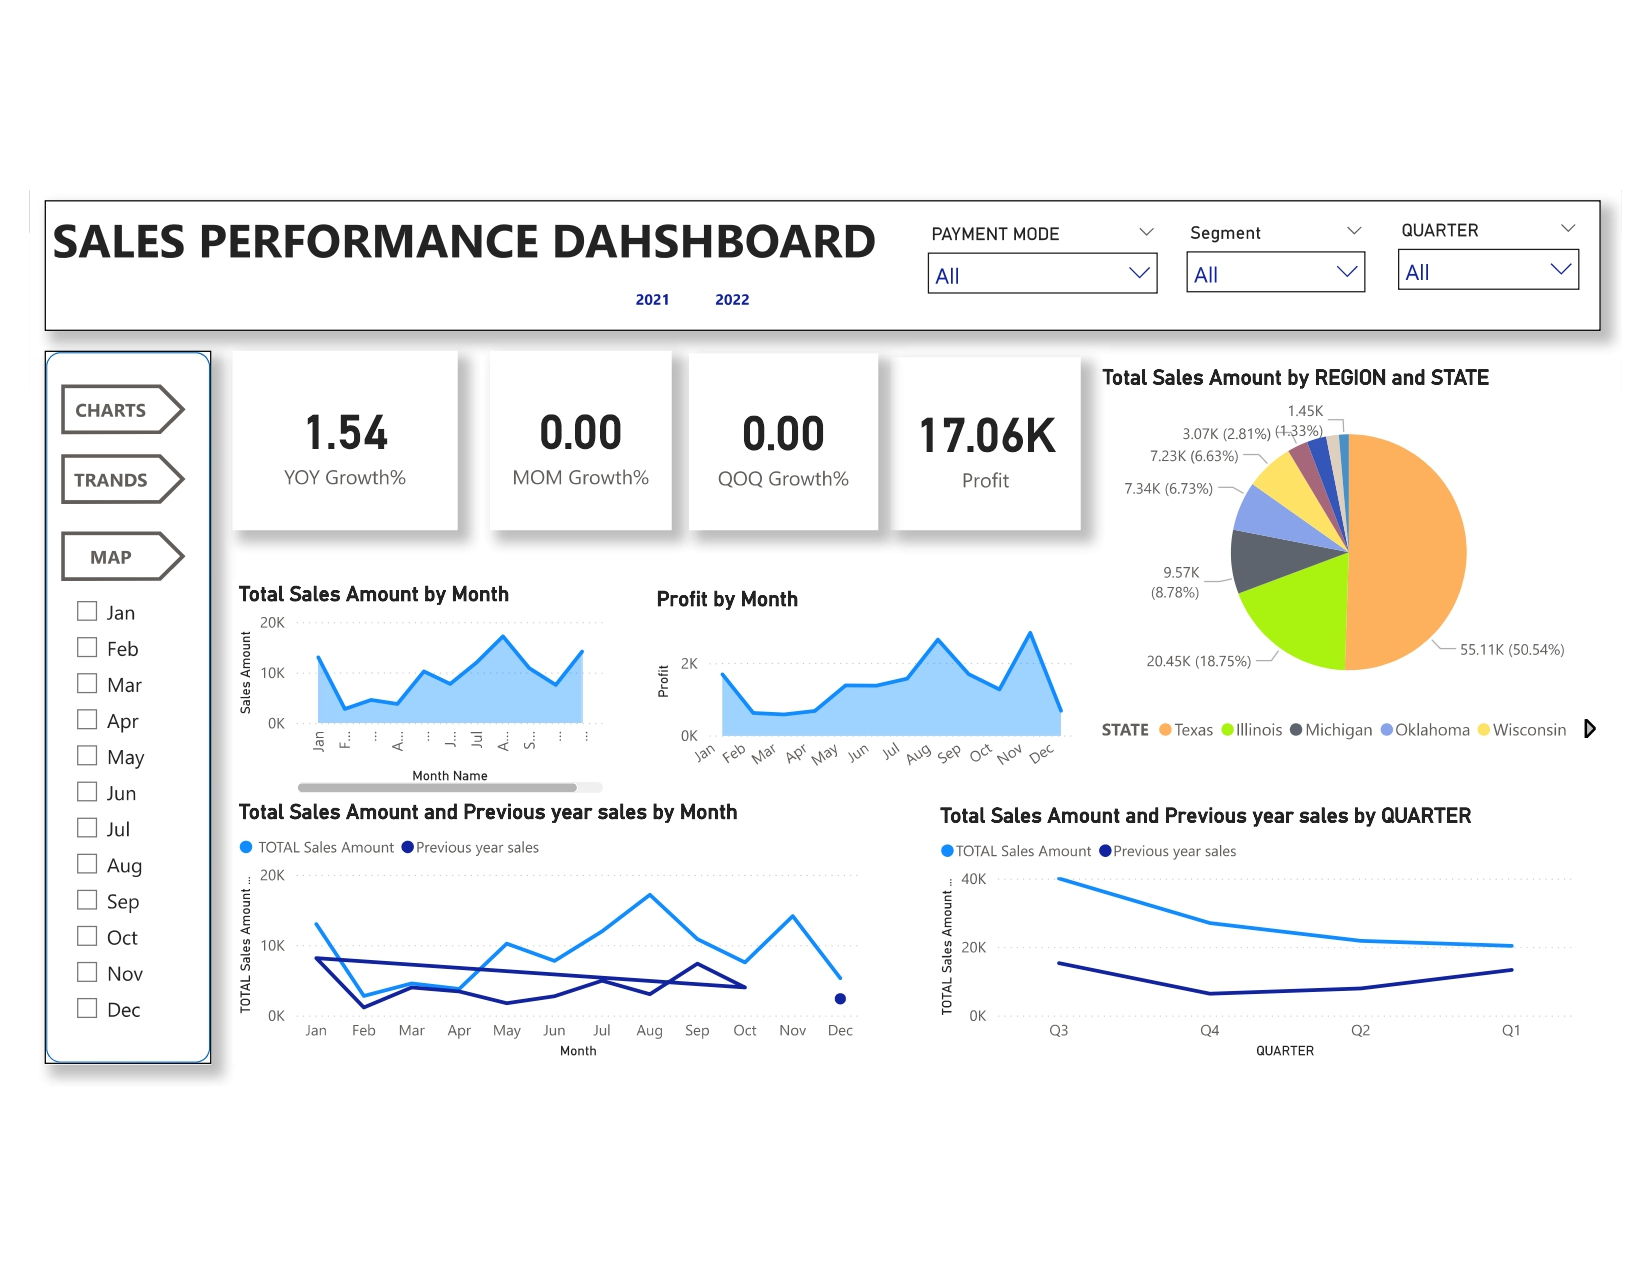

Layout of this report page (visuals, bound fields, positions):
{"tool":"powerbi","page":{"name":"TRANDS ","canvas":[1280,720],"ordinal":1},"visuals":[{"type":"textbox","box":[11.8,8.4,1251.4,104.1],"z":0},{"type":"shape","box":[11.8,129.3,134.4,572.8],"z":1000},{"type":"slicer","fields":{"Values":["InputData.Month Name"]},"box":[25.2,319.2,107.5,371.2],"z":2000},{"type":"slicer","fields":{"Values":["InputData.Segment"]},"box":[920.5,20.7,163.8,67.8],"z":3000},{"type":"slicer","fields":{"Values":["InputData.PAYMENT MODE"]},"box":[712.2,21.8,204.9,67.2],"z":4000},{"type":"slicer","fields":{"Values":["InputData.Year"]},"box":[443.8,67.6,176.3,32.3],"z":5000},{"type":"slicer","fields":{"Values":["InputData.QUARTER"]},"box":[1089.9,18.8,165.6,69.6],"z":6000},{"type":"actionButton","box":[25,212.1,100.2,39.8],"z":8000},{"type":"actionButton","box":[25,156.1,100.2,39.8],"z":9000},{"type":"areaChart","title":"Total Sales Amount by Month","fields":{"Category":["InputData.Month Name"],"Y":["Sum(InputData.TOTAL Sales Amount)"]},"box":[163.1,314.4,302.7,174.9],"z":10000},{"type":"stackedAreaChart","title":"Profit by Month ","fields":{"Y":["InputData.Profit"],"Category":["InputData.Month Name"]},"box":[499.3,318.2,344.7,166.4],"z":11000},{"type":"pieChart","title":"Total  Sales Amount by REGION and STATE","fields":{"Category":["InputData.REGION","InputData.STATE","InputData.CITY"],"Y":["Sum(InputData.TOTAL Sales Amount)"]},"box":[857.3,139.9,406.5,312.3],"z":12000},{"type":"actionButton","box":[25,274,100.2,39.8],"z":13001},{"type":"lineChart","title":"Total Sales Amount and Previous year sales by Month","fields":{"Category":["InputData.Month Name"],"Y":["Sum(InputData.TOTAL Sales Amount)","InputData.Previous year sales"]},"box":[163.1,489.3,508.4,213.1],"z":13002},{"type":"card","fields":{"Values":["InputData.MOM Growth%"]},"box":[370.3,129.3,145.5,144],"z":13003},{"type":"card","fields":{"Values":["InputData.YOY Growth%"]},"box":[163.1,129.3,180.7,144],"z":13004},{"type":"lineChart","title":"Total  Sales Amount and Previous year sales by QUARTER","fields":{"Y":["Sum(InputData.TOTAL Sales Amount)","InputData.Previous year sales"],"Category":["InputData.QUARTER"]},"box":[727.3,492.2,517.2,210.1],"z":13005},{"type":"card","fields":{"Values":["InputData.Profit"]},"box":[692.1,133.7,152.8,139.6],"z":13006},{"type":"card","fields":{"Values":["InputData.QOQ Growth%"]},"box":[530.4,130.8,151.3,142.5],"z":13007}]}

Visuals, with their boxes on the page's 1280x720 design canvas (x1, y1, x2, y2). These are canvas units, not pixel positions in the 1650x1275 screenshot, which may show the page scaled, cropped or inside an application window:
textbox: box=[12, 8, 1263, 112]
shape: box=[12, 129, 146, 702]
slicer - InputData.Month Name: box=[25, 319, 133, 690]
slicer - InputData.Segment: box=[920, 21, 1084, 88]
slicer - InputData.PAYMENT MODE: box=[712, 22, 917, 89]
slicer - InputData.Year: box=[444, 68, 620, 100]
slicer - InputData.QUARTER: box=[1090, 19, 1256, 88]
actionButton: box=[25, 212, 125, 252]
actionButton: box=[25, 156, 125, 196]
"Total Sales Amount by Month" areaChart: box=[163, 314, 466, 489]
"Profit by Month " stackedAreaChart: box=[499, 318, 844, 485]
"Total  Sales Amount by REGION and STATE" pieChart: box=[857, 140, 1264, 452]
actionButton: box=[25, 274, 125, 314]
"Total Sales Amount and Previous year sales by Month" lineChart: box=[163, 489, 672, 702]
card - InputData.MOM Growth%: box=[370, 129, 516, 273]
card - InputData.YOY Growth%: box=[163, 129, 344, 273]
"Total  Sales Amount and Previous year sales by QUARTER" lineChart: box=[727, 492, 1244, 702]
card - InputData.Profit: box=[692, 134, 845, 273]
card - InputData.QOQ Growth%: box=[530, 131, 682, 273]
